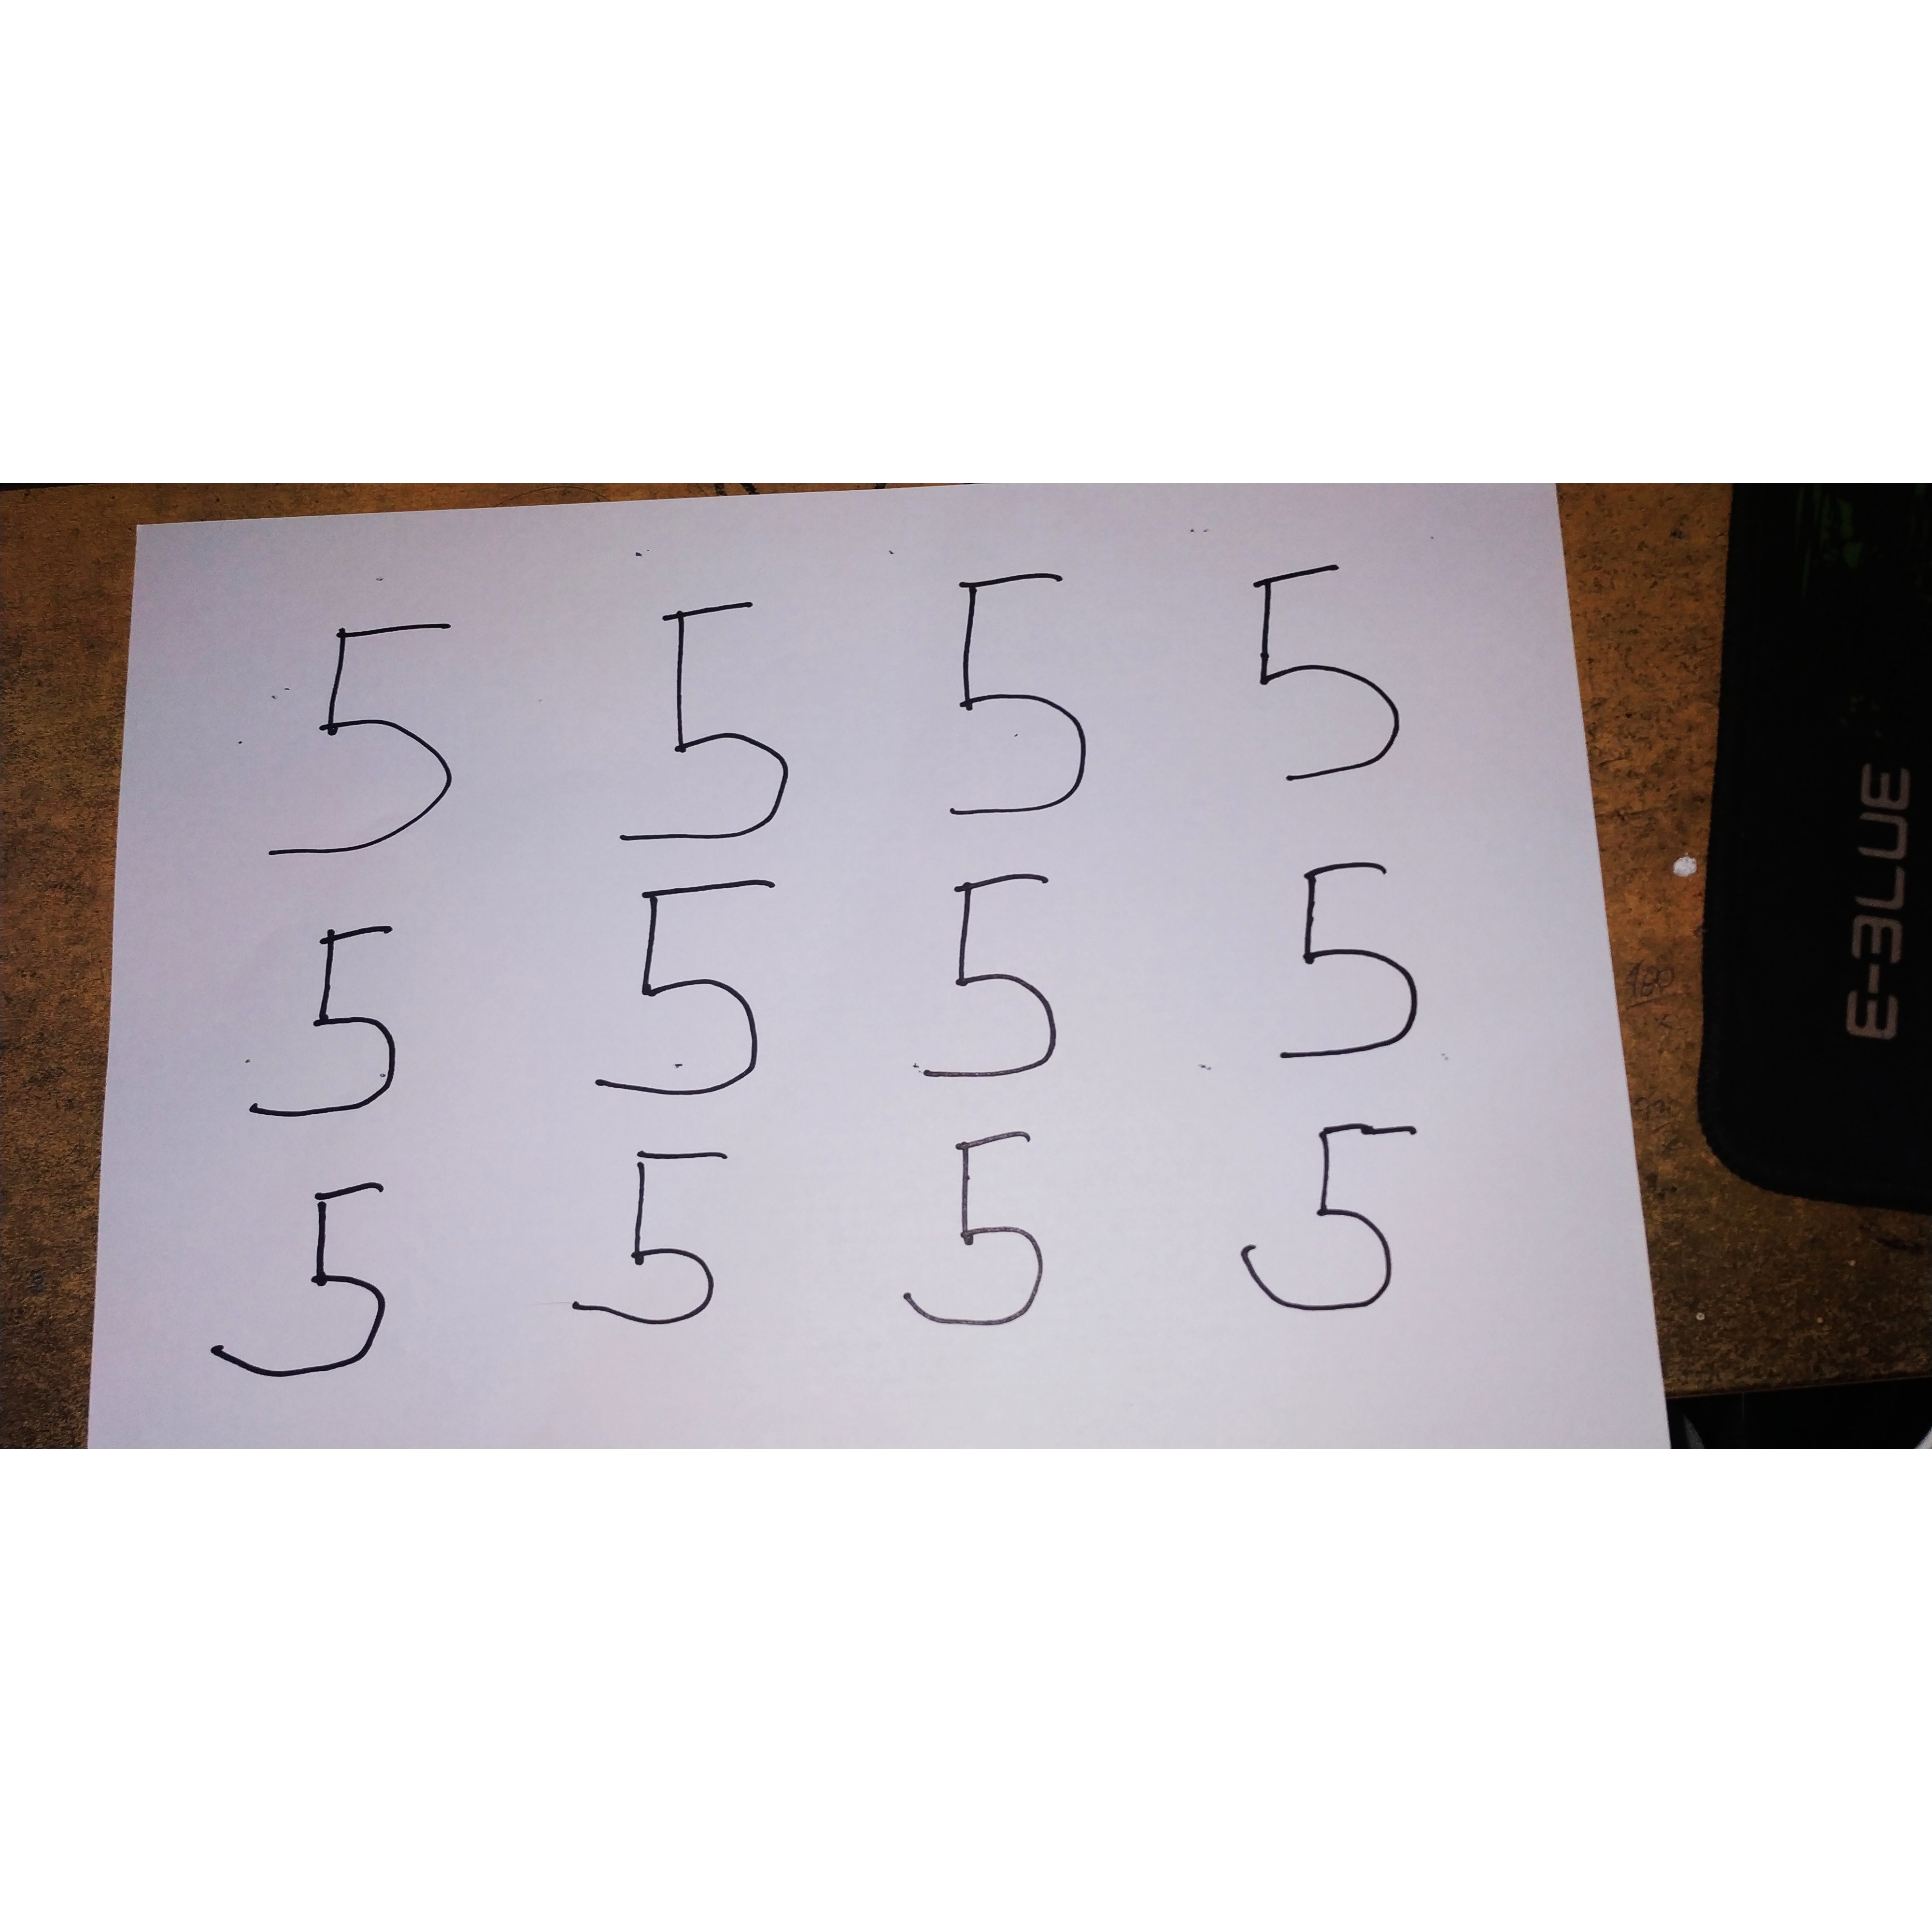num5: (238, 617, 503, 876), (1227, 558, 1464, 800), (925, 569, 1139, 827), (190, 1165, 429, 1386), (610, 598, 816, 848), (587, 878, 801, 1115), (1223, 1111, 1441, 1331), (557, 1134, 765, 1337), (883, 1128, 1078, 1344), (1271, 852, 1446, 1073), (904, 869, 1076, 1086), (242, 918, 414, 1134)
